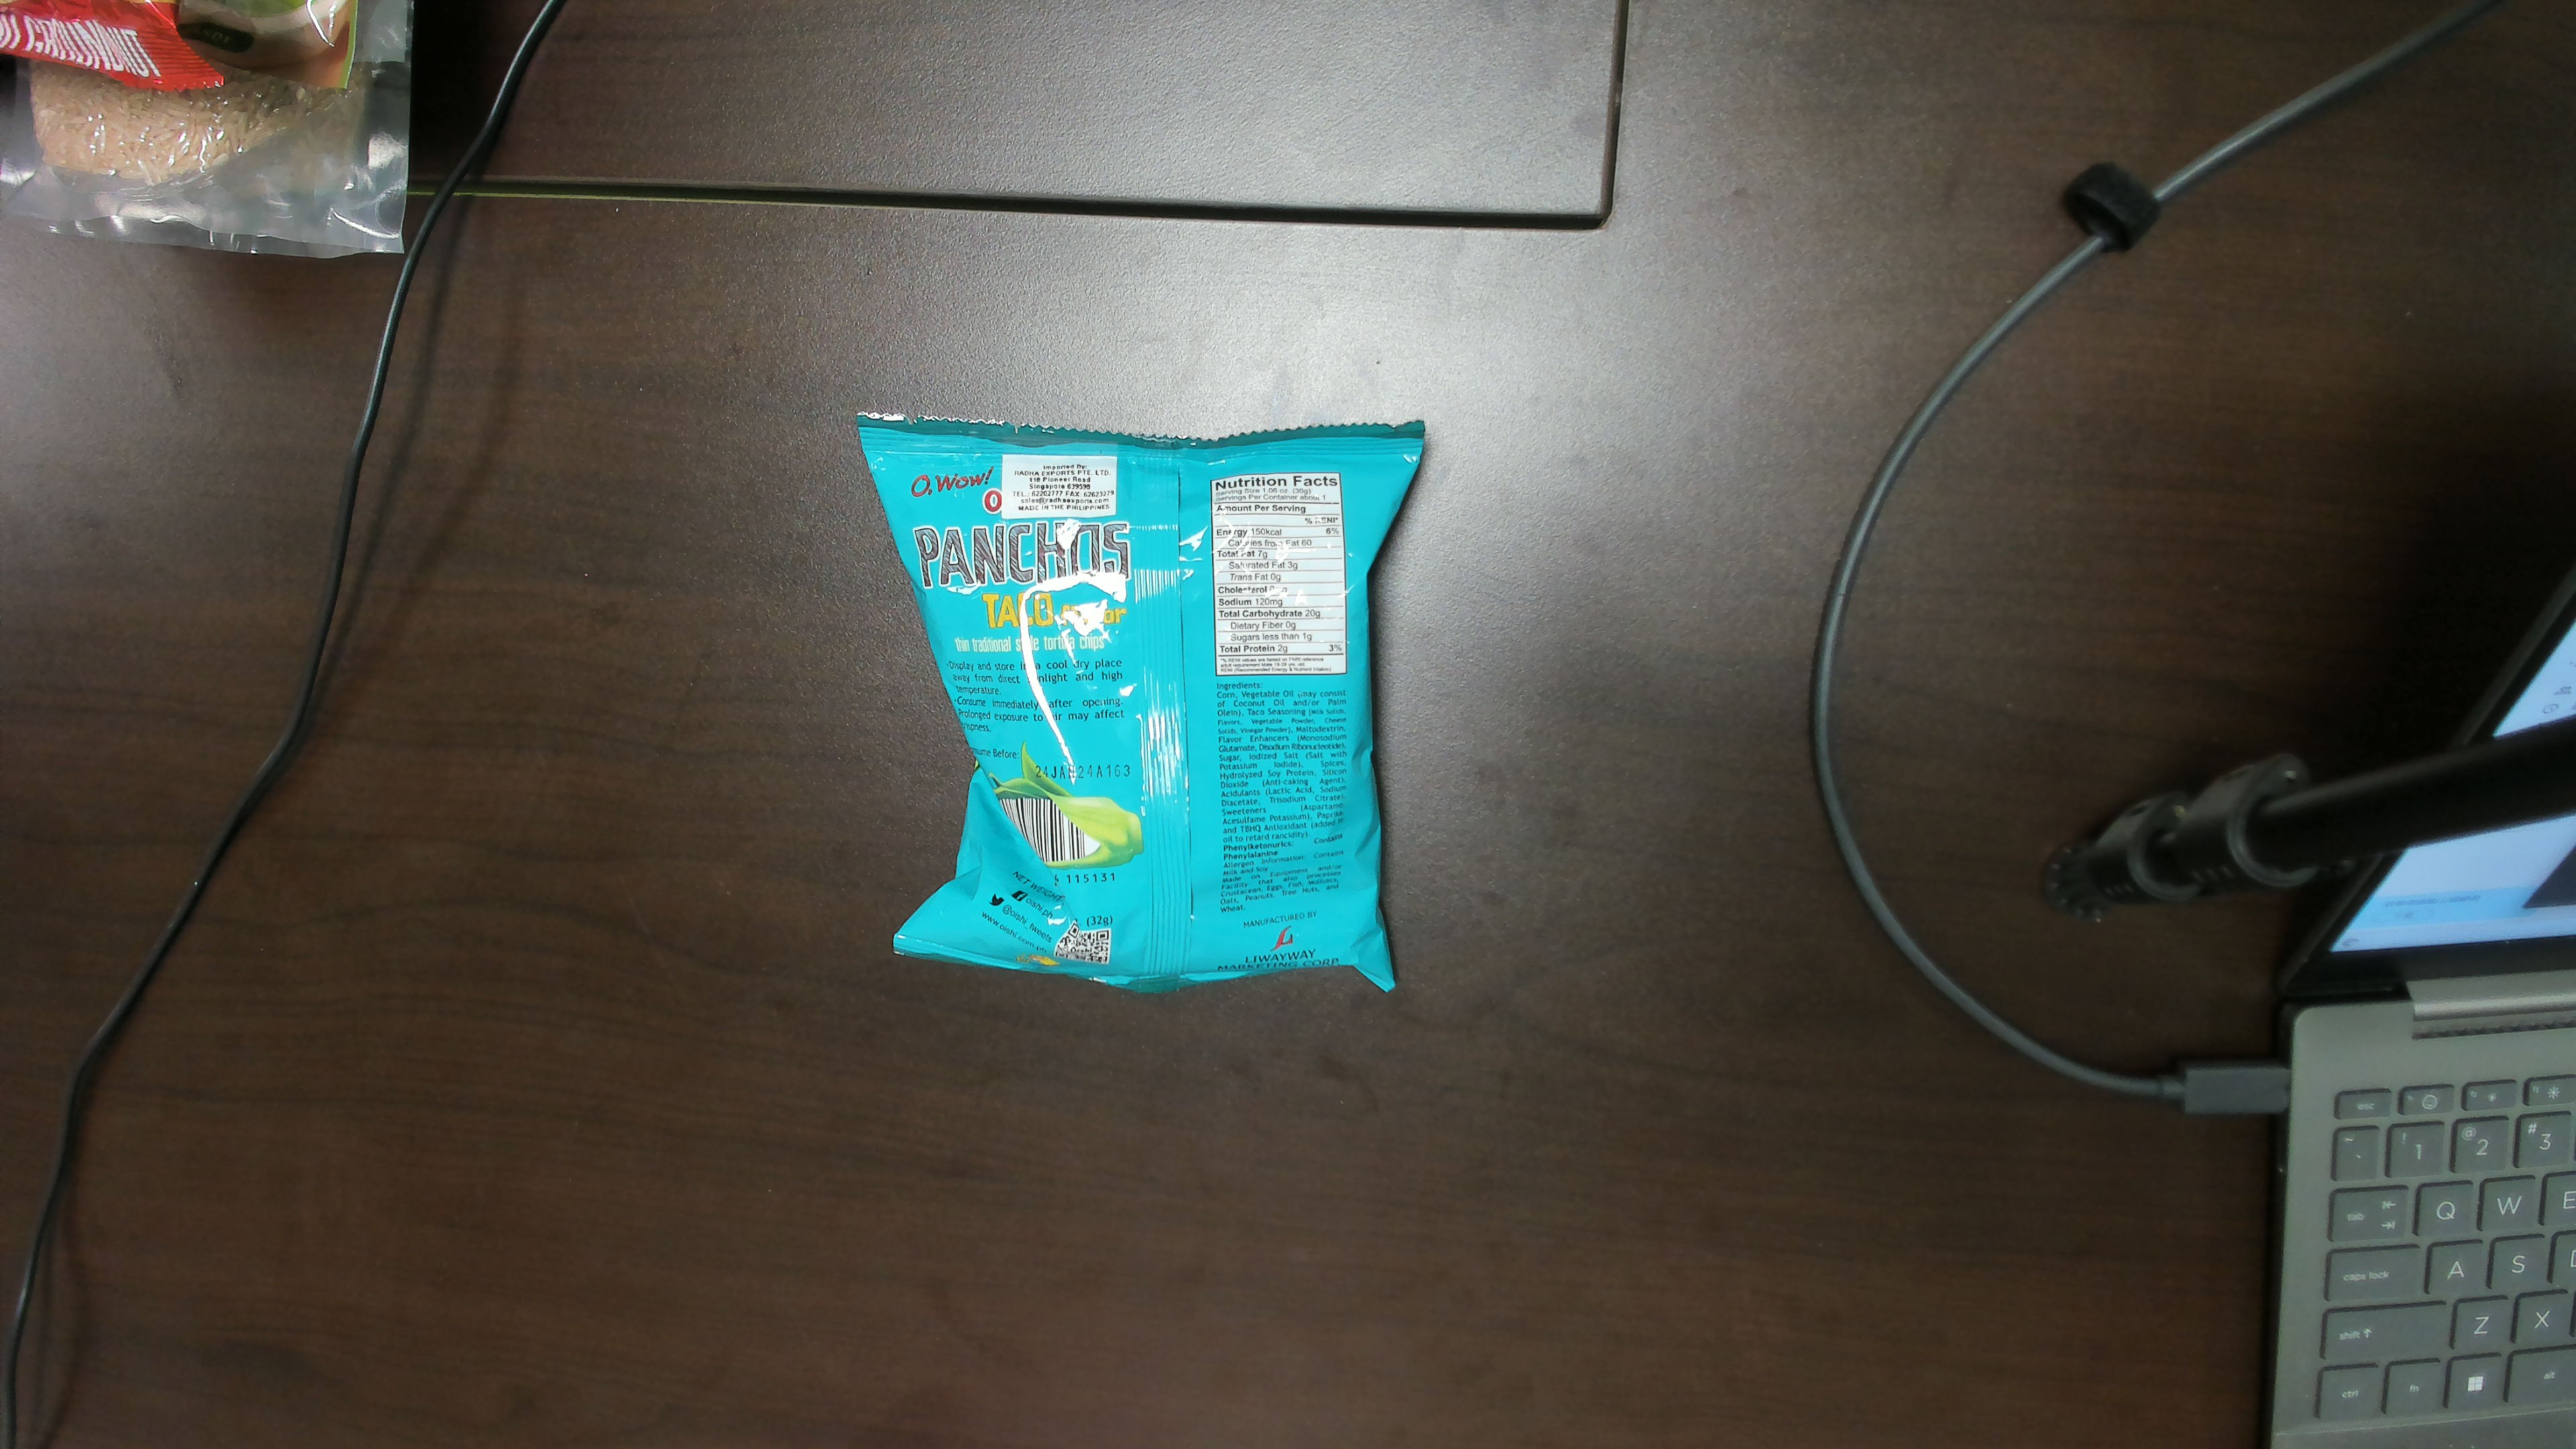PotatochipsKeropok_1-99g_NonHalal_NonHealthy: (922, 419, 1380, 959)
